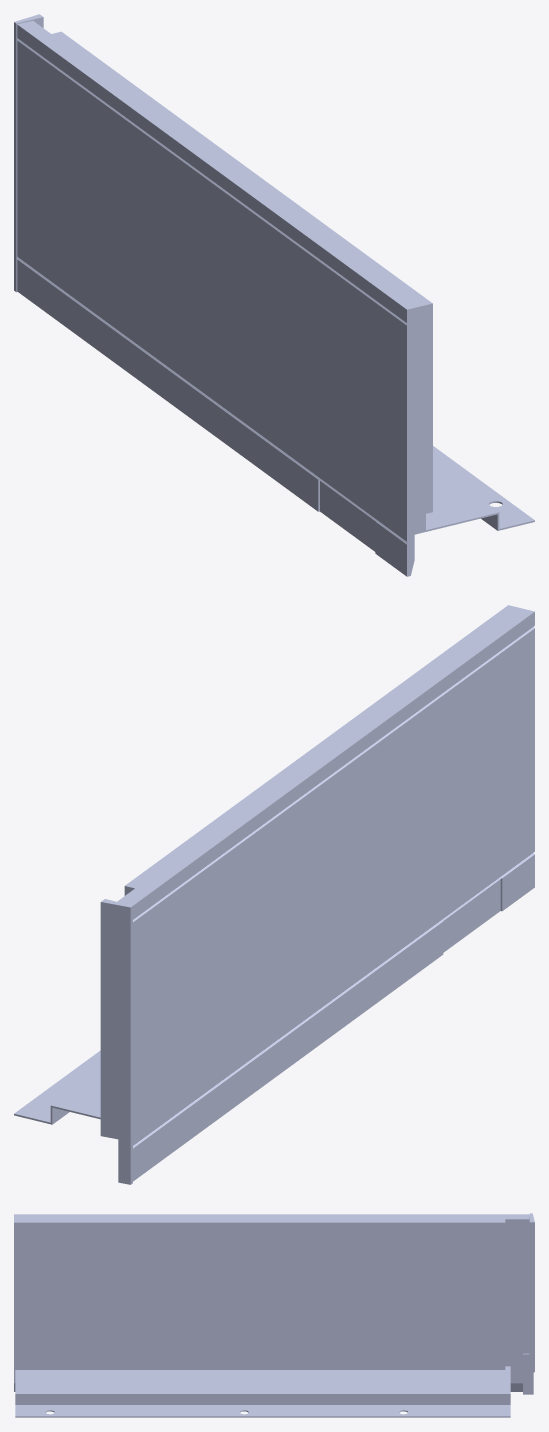
The model's file is lg-kava-K350-p.glb.
3 renders of one model, top to bottom at view 1: azimuth 30°, elevation 25°; view 2: azimuth 150°, elevation 25°; view 3: azimuth 270°, elevation 25°, orthographic. The views are drawn at different scales.
Visible parts, largest first — view 1: 42271916; view 2: 42271916; view 3: 42271916.
Part boxes in pixels (x1=…): 42271916: x1=14, y1=14, x2=534, y2=576; 42271916: x1=14, y1=605, x2=534, y2=1184; 42271916: x1=14, y1=1213, x2=534, y2=1417.
Bounding box in the file's own units: 0.0653 × 0.1292 × 0.3435.
